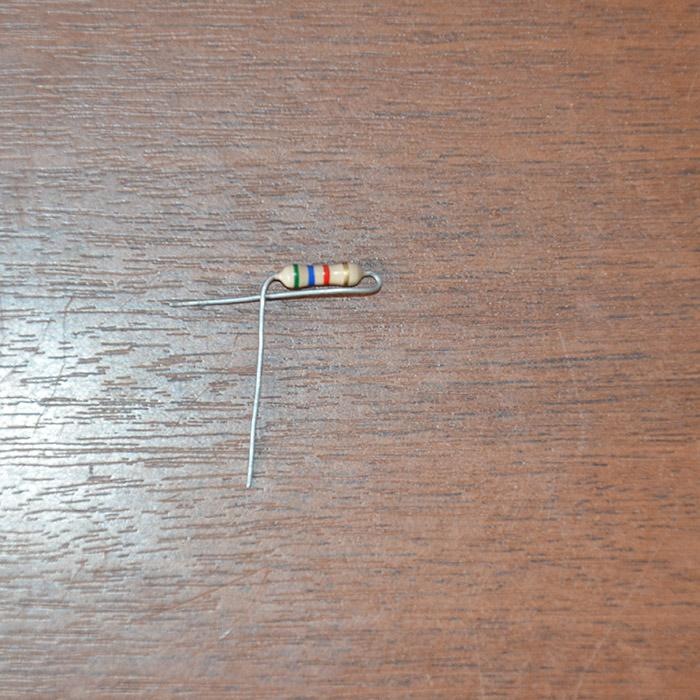resistor: (275, 261, 365, 289)
